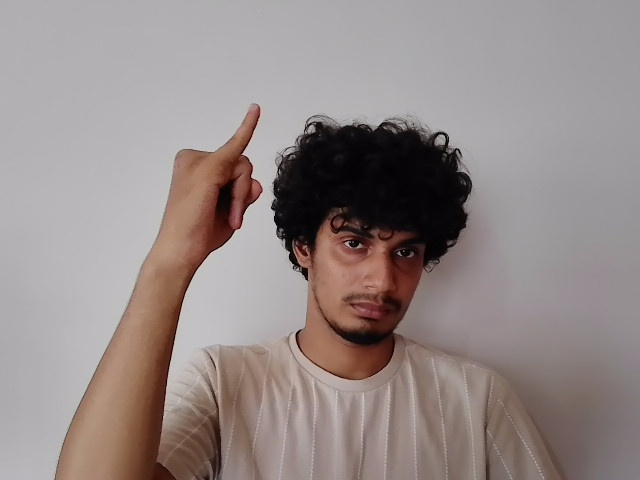bad: (140, 103, 264, 256)
